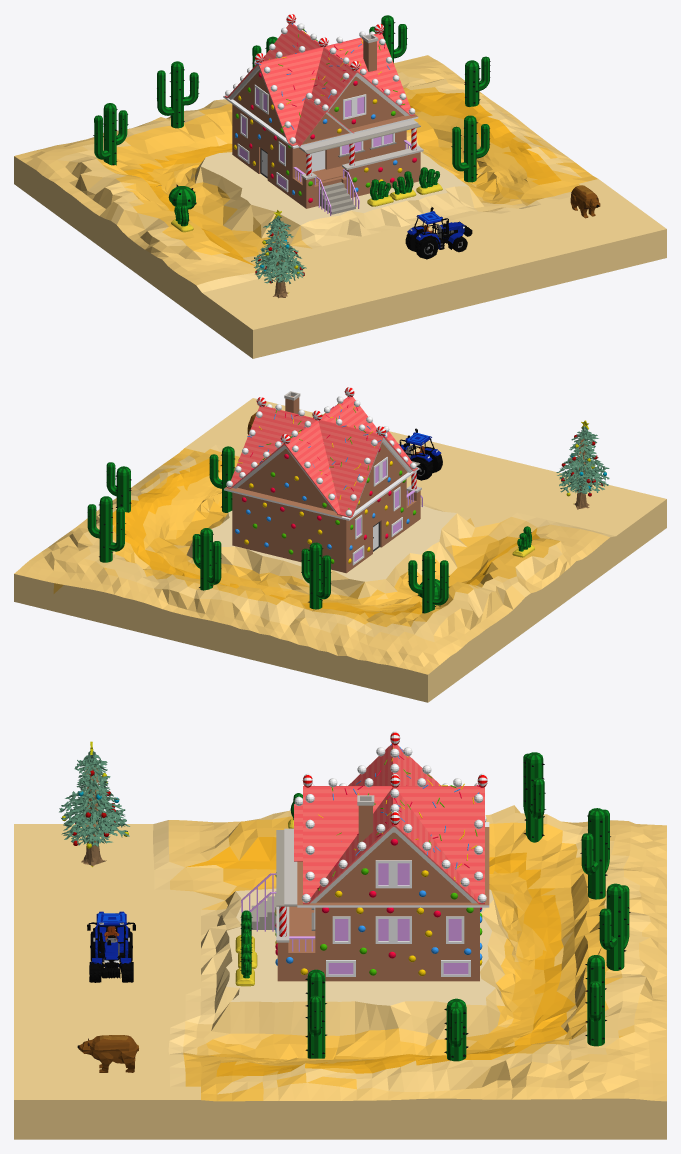
3 renders of one model, top to bottom at view 1: azimuth 30°, elevation 25°; view 2: azimuth 150°, elevation 25°; view 3: azimuth 270°, elevation 25°, orthographic. The views are drawn at different scales.
Parts seen in each view (by area): view 1: Cube.001, Cube.1203, OBJRANDOM_CHRISTMAS_TREE, VEHICLES_TRACTOR, Cylinder.044, Cylinder.037, Cylinder.045, Cylinder.038, Cylinder.042, ANIMAL_OSO, Cylinder.039, Cylinder.041; view 2: Cube.001, Cube.1203, OBJRANDOM_CHRISTMAS_TREE, Cylinder.042, Cylinder.045, Cylinder.044, Cylinder.043, VEHICLES_TRACTOR, Cylinder.037, Cylinder.038; view 3: Cube.001, Cube.1203, OBJRANDOM_CHRISTMAS_TREE, VEHICLES_TRACTOR, Cylinder.043, Cylinder.044, Cylinder.045, Cylinder.037, Cylinder.042, ANIMAL_OSO, Cylinder.038, Cylinder.041.
Part boxes in pixels (box(x1,y1,x2,y2)): Cube.001: box(14, 55, 666, 358); Cube.1203: box(223, 14, 423, 215); OBJRANDOM_CHRISTMAS_TREE: box(251, 210, 306, 298); VEHICLES_TRACTOR: box(405, 207, 472, 259); Cylinder.044: box(157, 61, 199, 128); Cylinder.037: box(451, 115, 489, 182); Cylinder.045: box(93, 103, 128, 165); Cylinder.038: box(464, 56, 490, 106); Cylinder.042: box(369, 15, 407, 63); ANIMAL_OSO: box(570, 185, 600, 218); Cylinder.039: box(367, 179, 393, 206); Cylinder.041: box(416, 167, 442, 194); Cube.001: box(14, 398, 666, 702); Cube.1203: box(224, 387, 422, 573); OBJRANDOM_CHRISTMAS_TREE: box(556, 420, 609, 509); Cylinder.042: box(87, 496, 125, 562); Cylinder.045: box(408, 551, 449, 613); Cylinder.044: box(301, 542, 331, 609); Cylinder.043: box(192, 528, 221, 590); VEHICLES_TRACTOR: box(399, 428, 442, 480); Cylinder.037: box(209, 446, 239, 512); Cylinder.038: box(106, 462, 131, 512); Cube.001: box(14, 805, 666, 1139); Cube.1203: box(241, 731, 489, 981); OBJRANDOM_CHRISTMAS_TREE: box(59, 741, 129, 867); VEHICLES_TRACTOR: box(87, 911, 135, 982); Cylinder.043: box(598, 883, 630, 970); Cylinder.044: box(580, 808, 610, 899); Cylinder.045: box(523, 752, 545, 842); Cylinder.037: box(305, 969, 326, 1058); Cylinder.042: box(585, 955, 606, 1046); ANIMAL_OSO: box(77, 1035, 138, 1072); Cylinder.038: box(444, 998, 468, 1061); Cylinder.041: box(235, 943, 254, 986).
Bounding box in the file's own units: 4002 × 1636 × 4001.
Materials: 38 (3 with a texture image).
